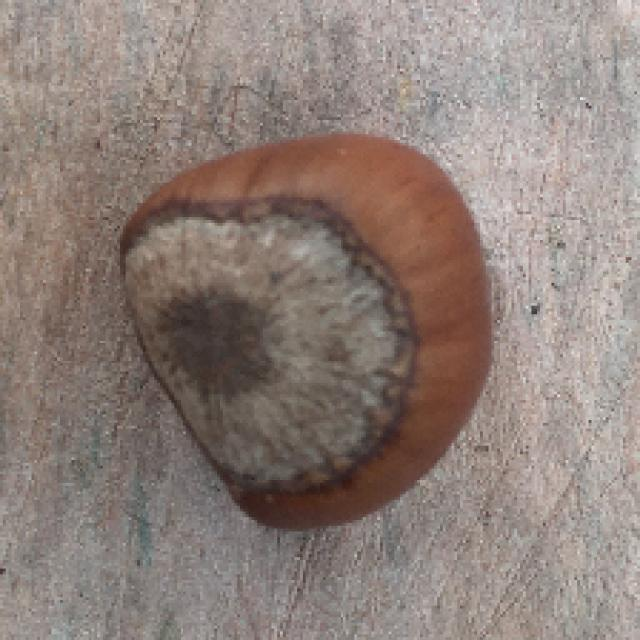qualityHazelnut: (103, 117, 505, 545)
